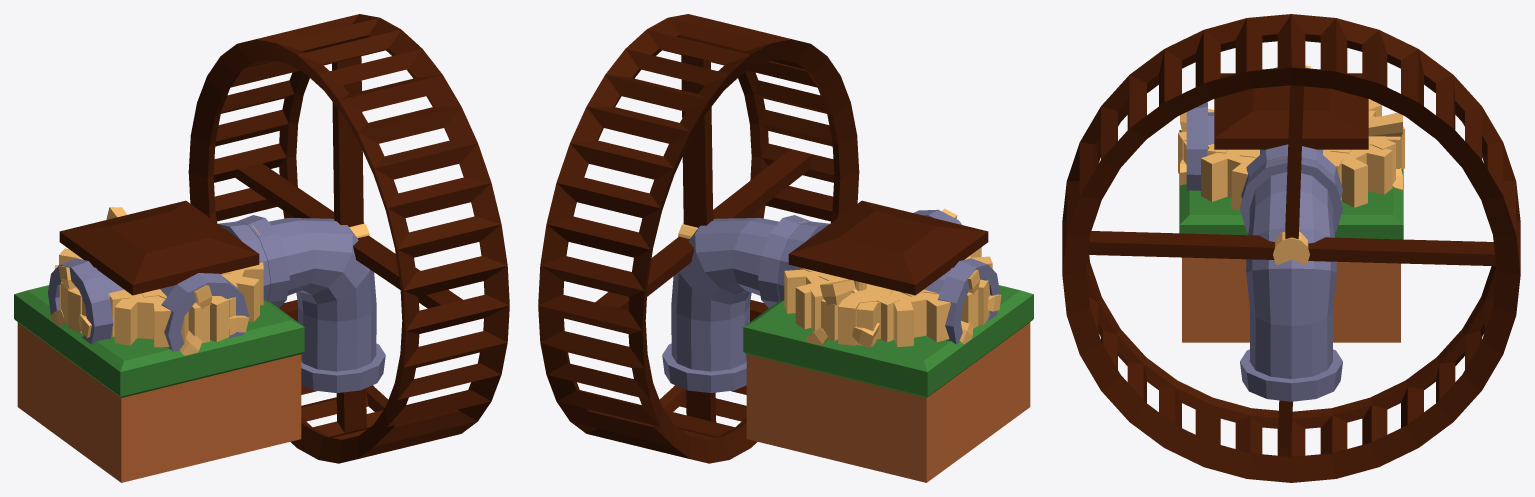
The model's file is mechs.glb.
The picture shows the model from 3 angles, left to right: view 1: azimuth 30°, elevation 25°; view 2: azimuth 150°, elevation 25°; view 3: azimuth 270°, elevation 25°; orthographic projection. The views are drawn at different scales.
Parts seen in each view (by area): view 1: Cylinder.001, ground, Cylinder.003, grass, top, cog_big, Cylinder, Cylinder.004, cog_f, shaft_f, cog_r, shaft_r; view 2: Cylinder.001, ground, Cylinder.003, grass, top, cog_big, Cylinder, cog_b, shaft_b, shaft_r, Cylinder.004, cog_r; view 3: Cylinder.001, Cylinder.003, ground, top, cog_big, grass, Cylinder.004, Cylinder, Cylinder.002, shaft_b, cog_b.
Boxes of the visible parts, x1,y1,x2,y2 form: Cylinder.001: (188,14,509,463); ground: (17,322,301,482); Cylinder.003: (236,215,385,392); grass: (14,285,304,397); top: (59,200,259,295); cog_big: (55,248,263,347); Cylinder: (48,221,270,344); Cylinder.004: (55,267,248,351); cog_f: (141,279,237,343); shaft_f: (180,285,248,355); cog_r: (59,284,129,336); shaft_r: (50,265,91,338); Cylinder.001: (538,14,859,463); ground: (746,322,1030,482); Cylinder.003: (662,215,811,392); grass: (743,285,1033,397); top: (788,200,988,295); cog_big: (784,247,992,346); Cylinder: (777,221,999,344); cog_b: (810,273,899,345); shaft_b: (805,279,879,348); shaft_r: (959,270,1001,344); Cylinder.004: (913,209,992,321); cog_r: (901,279,988,324); Cylinder.001: (1062,14,1520,482); Cylinder.003: (1240,156,1342,401); ground: (1182,257,1400,342); top: (1214,73,1368,149); cog_big: (1181,99,1401,210); grass: (1179,130,1403,239); Cylinder.004: (1186,102,1214,191); Cylinder: (1241,67,1342,198); Cylinder.002: (1273,232,1309,264); shaft_b: (1368,112,1402,191); cog_b: (1330,110,1404,183).
Size of the model in its own units: 2.65 by 2.97 by 2.97.
